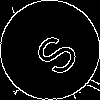S: (25, 25, 82, 80)
